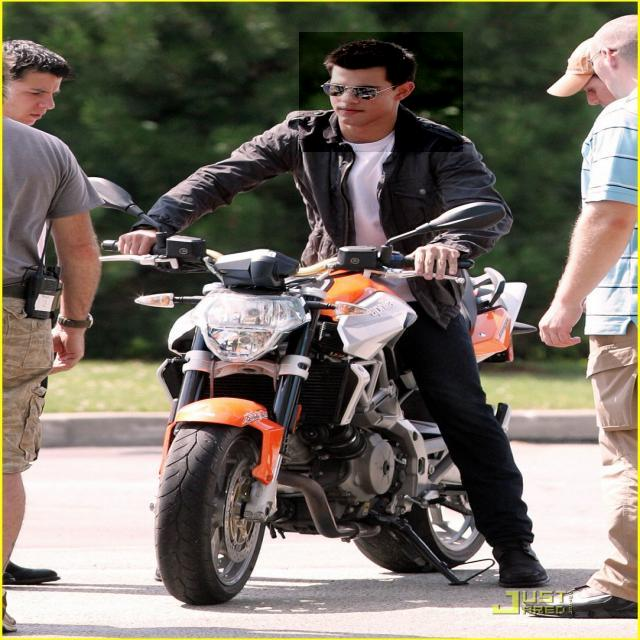No_Helmet: (300, 32, 463, 152)
